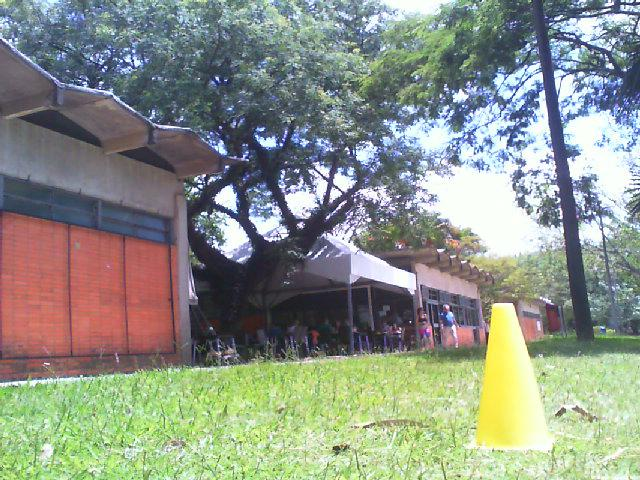0 cone: (468, 303, 554, 450)
